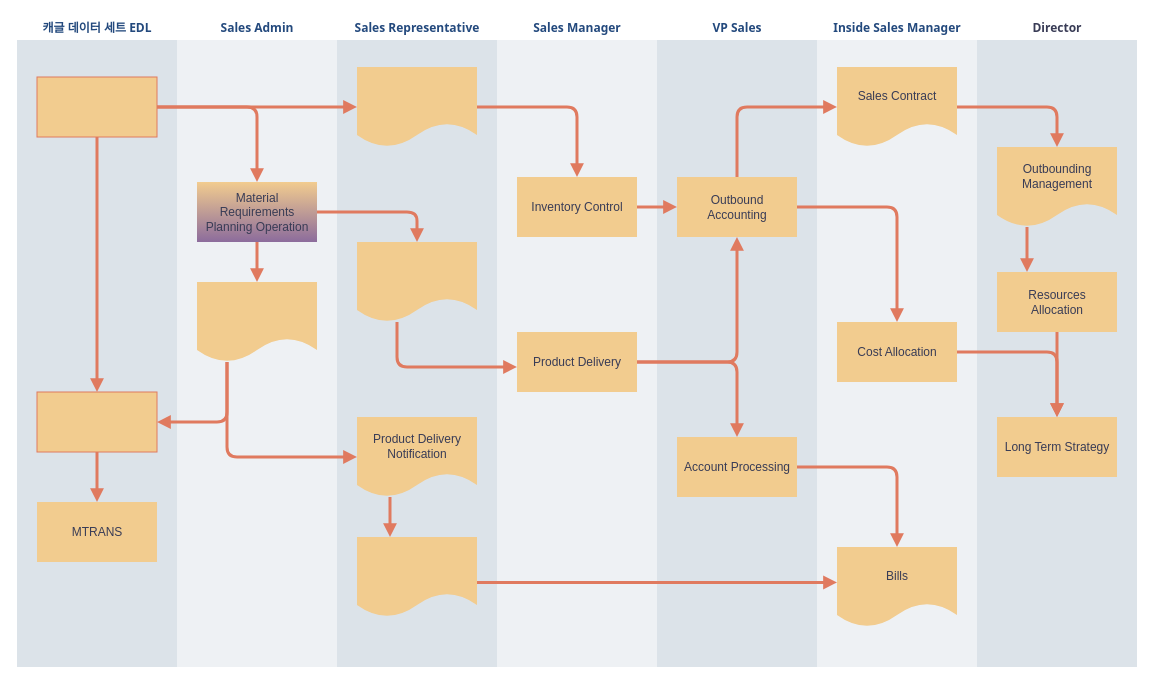
Image size: 1154x684. Some labels were removed from this diagram. The shapes that lost their labels are listed below. From the top down, each one's box as (x1, y1, x2, y2) in pixels, then its label:
(36, 76, 157, 137): 비정형 /카테고리형 데이터 Labeling Encoding
(356, 66, 476, 146): Product Quotations
(356, 242, 476, 322): Orders
(196, 282, 316, 362): Facilities Procurement Application
(36, 391, 157, 452): Credit Management
(356, 536, 476, 616): Invoice
